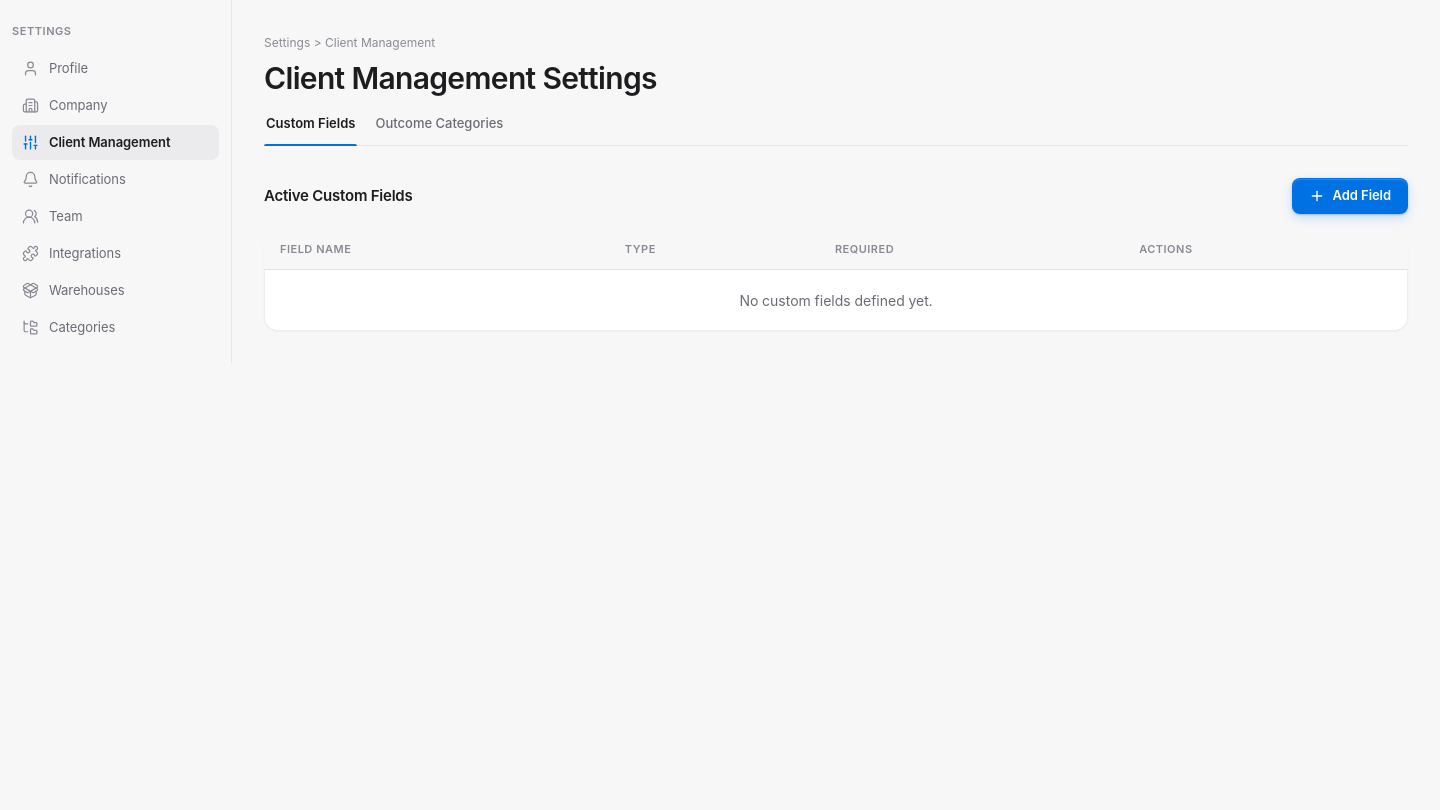
Test: ClientSettingsContent › renders the custom field save error where the user can see it
The width and height of the screenshot is (1440, 810).
What coordinates should you click on to do the following:
click the button "Add Field"
I would click on:
 (1350, 196)
Its box is [1292,178,1408,214].
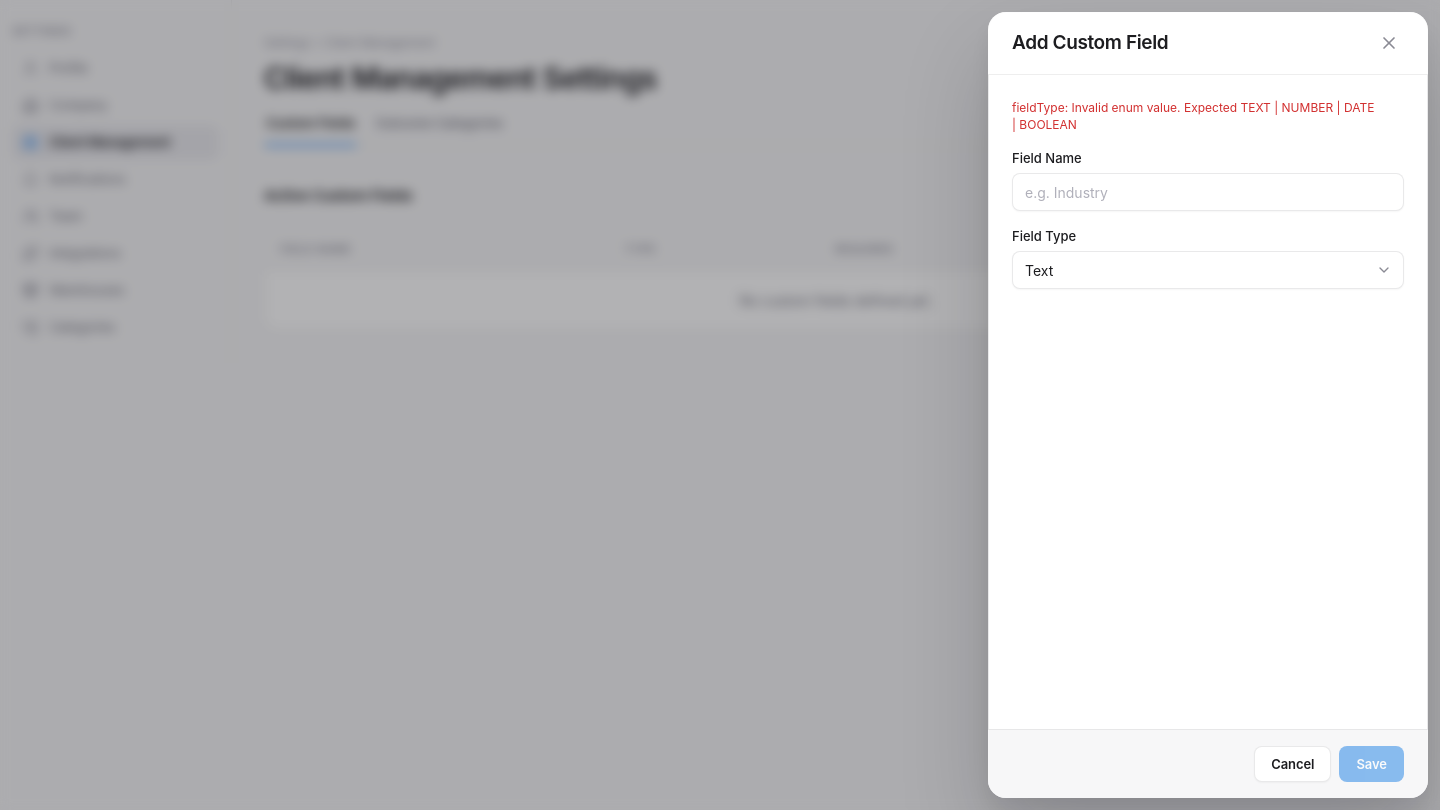
Check: the message shows "Invalid enum value", box [1012,100,1374,132]
